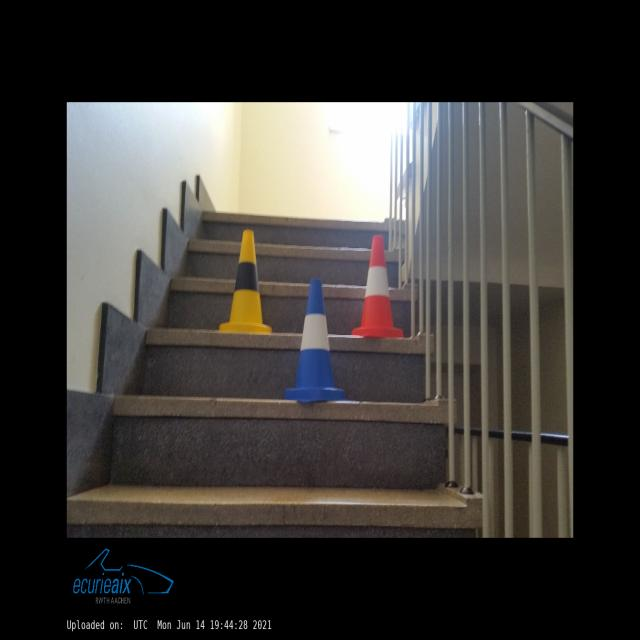blue_cone: (286, 279, 344, 402)
orange_cone: (352, 235, 403, 337)
yellow_cone: (220, 230, 271, 334)
